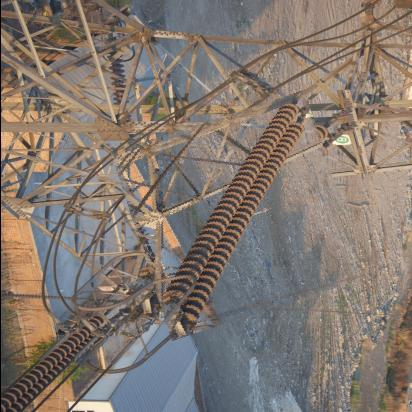insulator: (124, 105, 353, 330)
